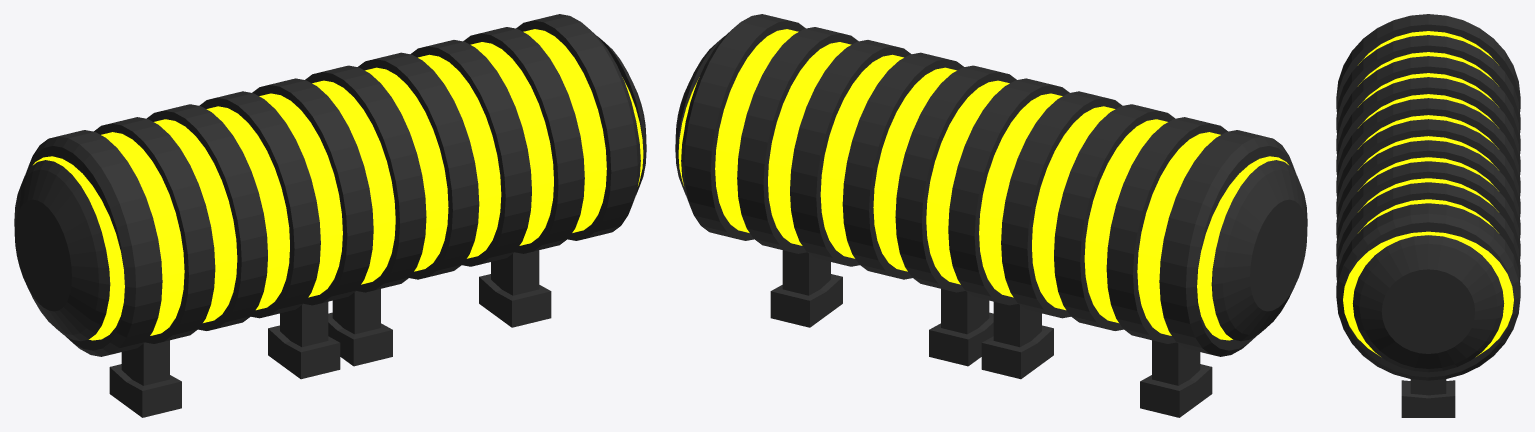
Rendered from FuelTank.fbx.
The picture shows the model from 3 angles, left to right: view 1: azimuth 30°, elevation 25°; view 2: azimuth 150°, elevation 25°; view 3: azimuth 270°, elevation 25°; orthographic projection. The views are drawn at different scales.
Visible parts, largest first — view 1: FuelTank; view 2: FuelTank; view 3: FuelTank.
Part boxes in pixels (x1,y1,x2,y2): FuelTank: (14, 14, 646, 417); FuelTank: (675, 14, 1307, 417); FuelTank: (1336, 14, 1520, 417).
Bounding box in the file's own units: 1282 × 582 × 436.
